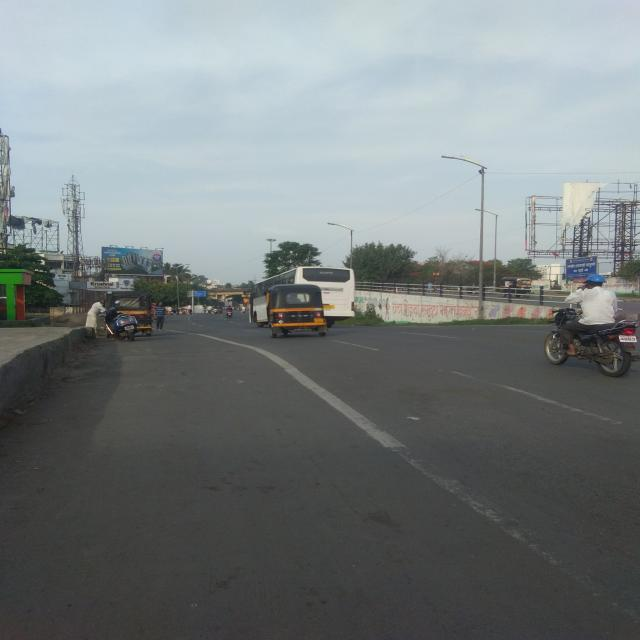Auto: (267, 284, 327, 338), (108, 291, 153, 336)
Bus: (250, 265, 355, 328)
Two Wheeler: (573, 320, 640, 378), (543, 308, 578, 365), (108, 314, 138, 340)
